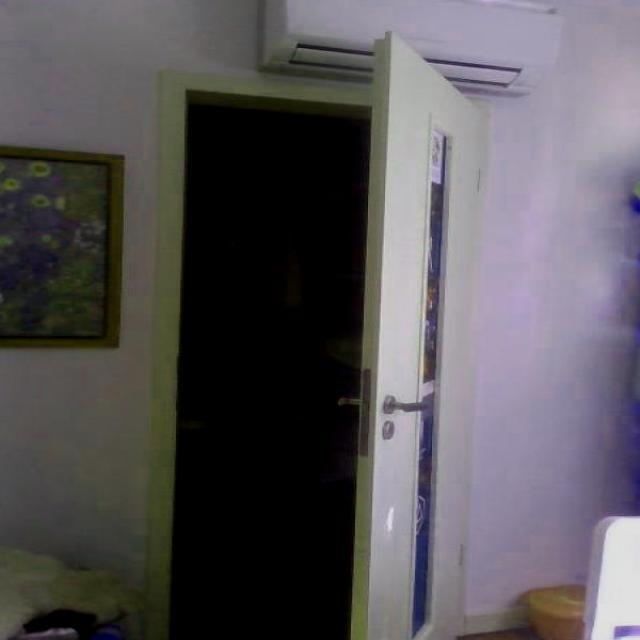door: (352, 29, 483, 638)
